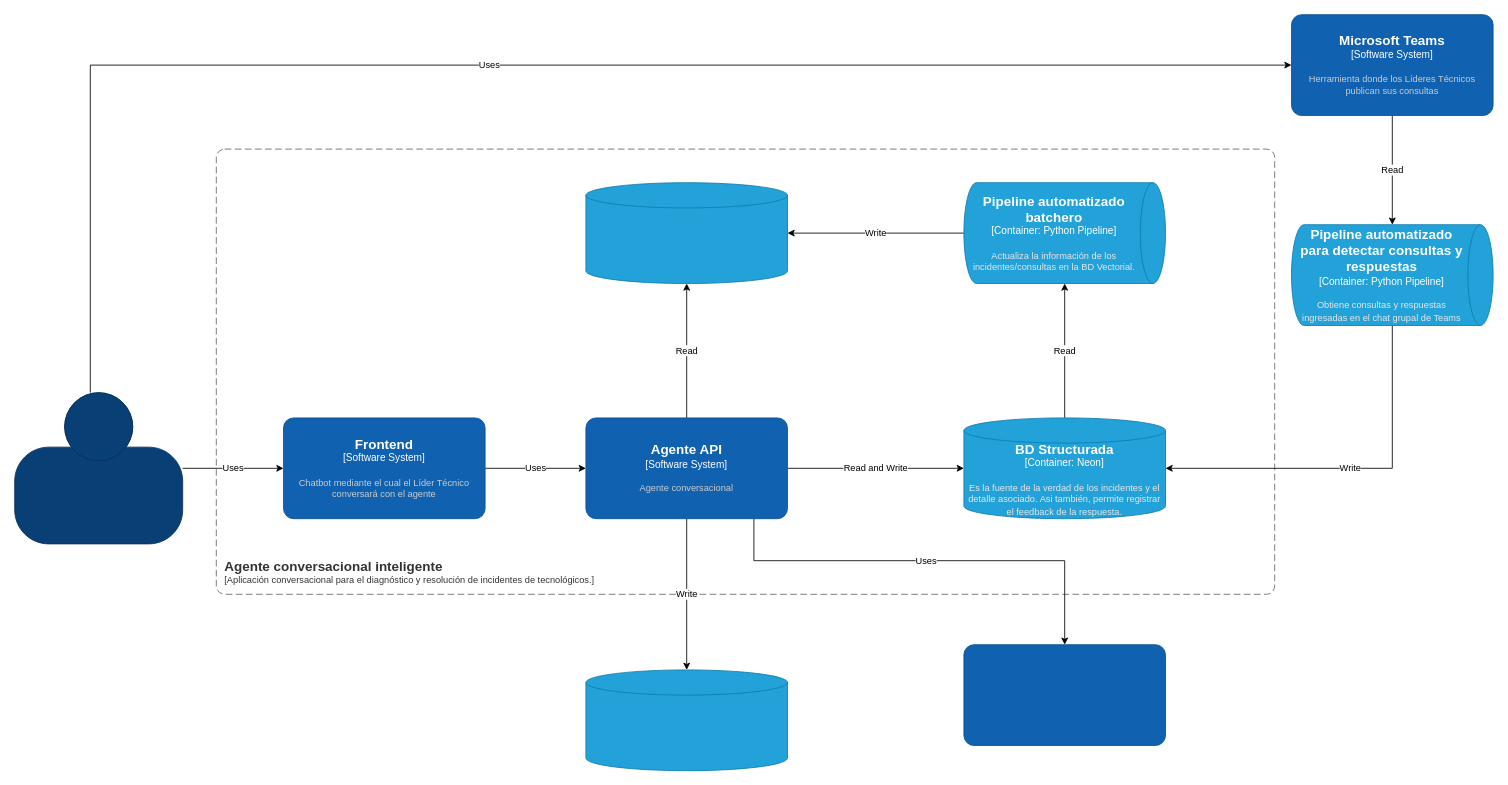
This 1508x785 diagram has some shape labels left out. The shapes that lost their labels are listed below. From the top down, each one's centre as x and y in pixels, then its label:
At (686,233): "BD Vectorial [Container: QDRANT] Permite búsqueda semántica de incidentes".
At (98,468): "Líder Técnico [Person] Responsable de Aplicaciones".
At (1064,695): "OpenAI LLM Model [Software System] gpt-4o-mini".
At (686,720): "LangSmith [Container: LangSmith] Herramienta para observabilidad".
